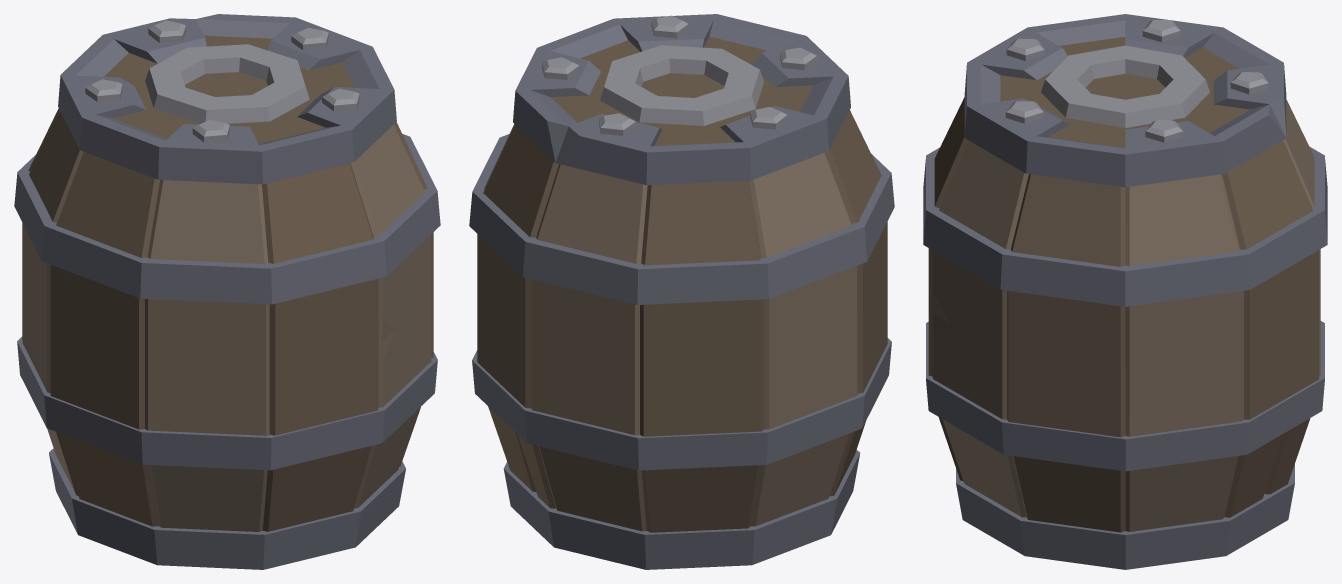
Rendered from _barrel_1.fbx.
3 views of the same model, side by side, from view 1: azimuth 30°, elevation 25°; view 2: azimuth 150°, elevation 25°; view 3: azimuth 270°, elevation 25° (orthographic).
Parts seen in each view (by area): view 1: barrel_1; view 2: barrel_1; view 3: barrel_1.
Boxes of the visible parts, bbox=[...] form: barrel_1: bbox=[14, 14, 440, 569]; barrel_1: bbox=[469, 14, 894, 569]; barrel_1: bbox=[923, 14, 1327, 569].
Size of the model in its own units: 87.5 by 95.86 by 83.22.
